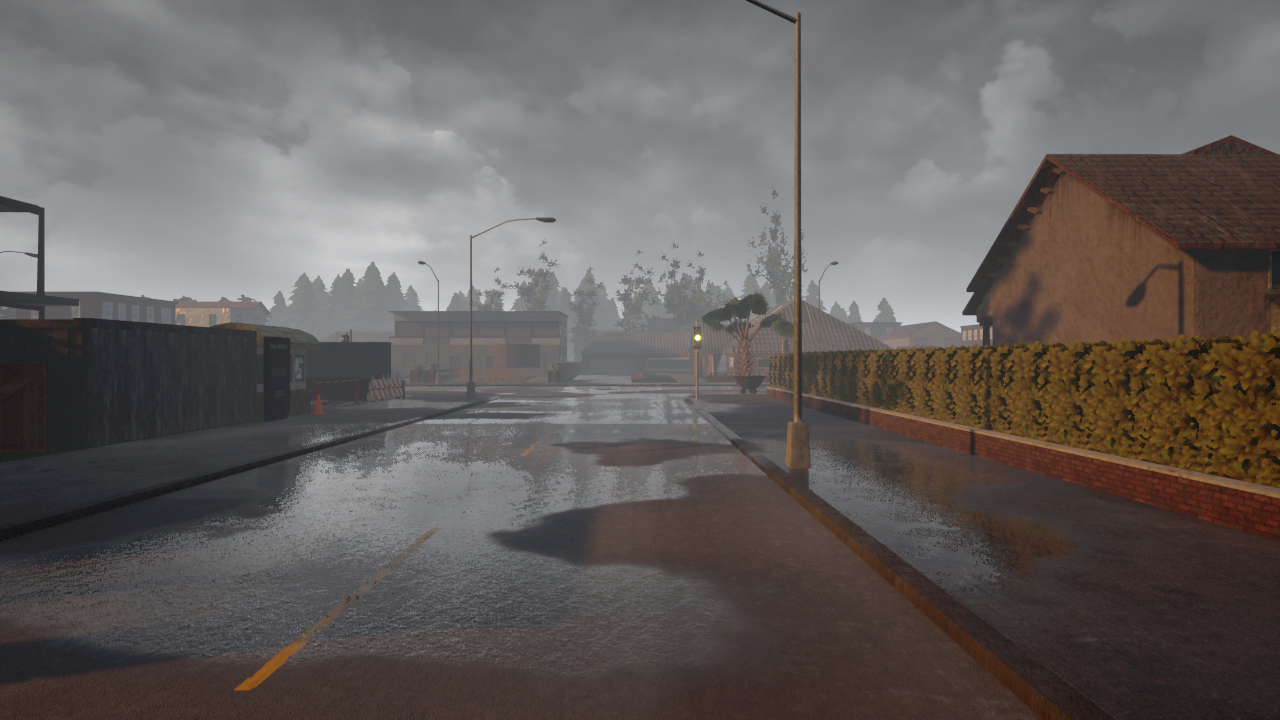yellow: (693, 326, 702, 350)
